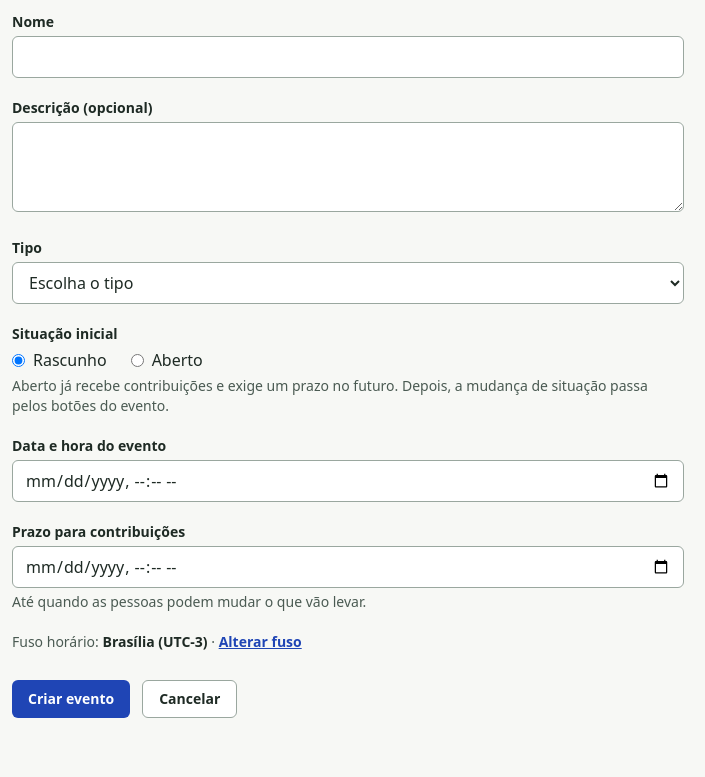
Scenario: EventFormPage: creating › marks the field the API rejects and stays on the form
Type "Almoço de fim de ano" into the field labelled "Nome". click: (348, 57)
box: [12, 36, 684, 78]
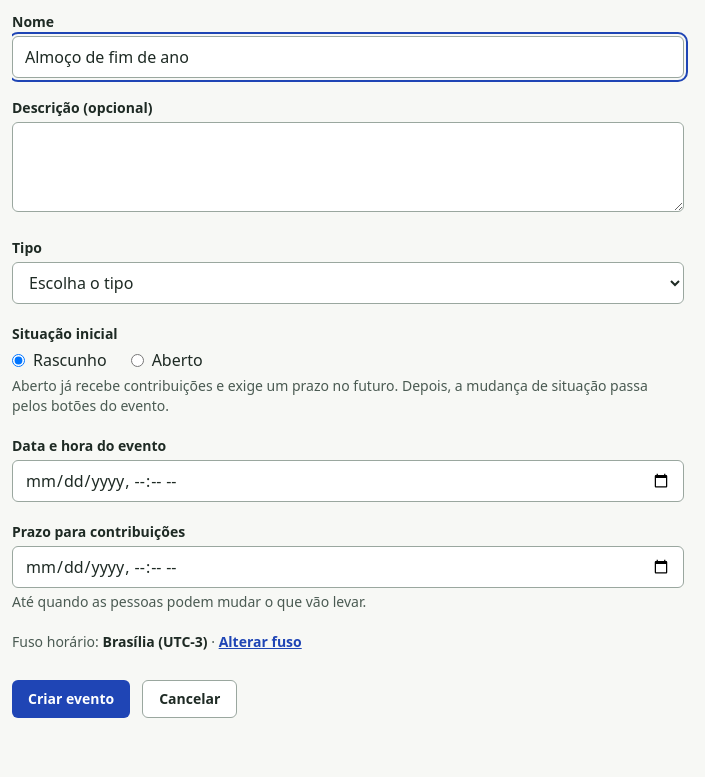
Select "Almoço" in the dropdown labelled "Tipo". click: (348, 283)
box: [12, 262, 684, 304]
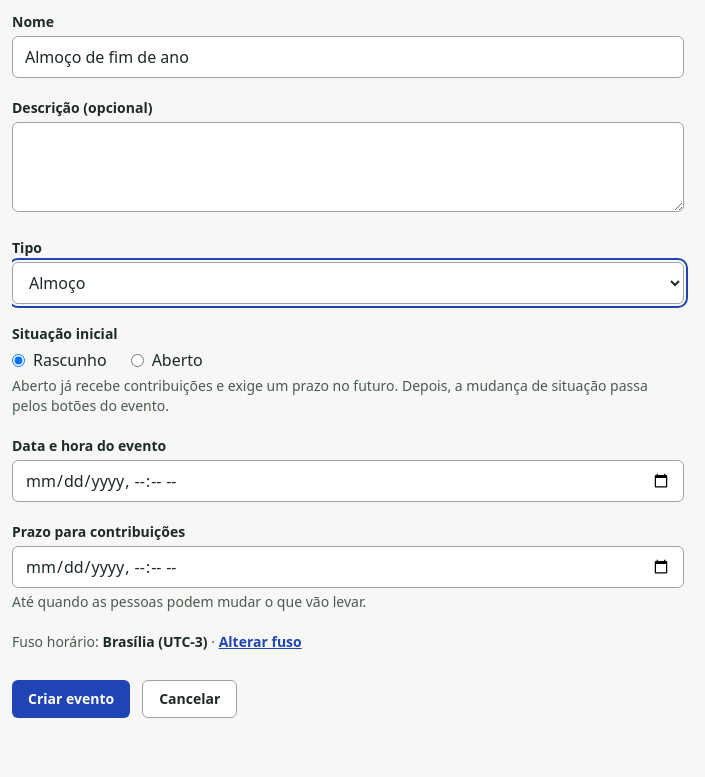
Type "2026-12-18T12:00" into the field labelled "Data e hora do evento". click: (348, 481)
box: [12, 460, 684, 502]
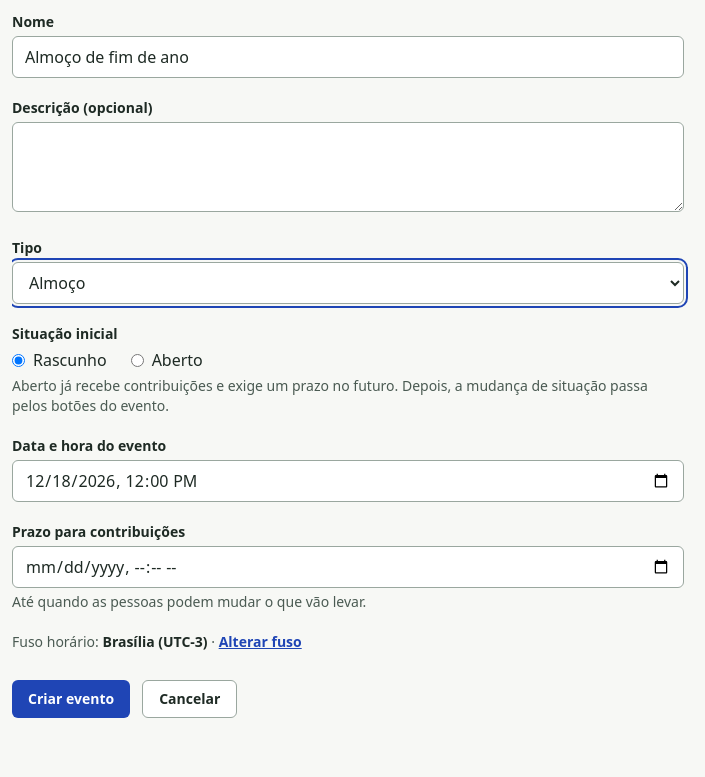
Type "2026-12-13T18:00" into the field labelled "Prazo para contribuições". click: (348, 567)
box: [12, 546, 684, 588]
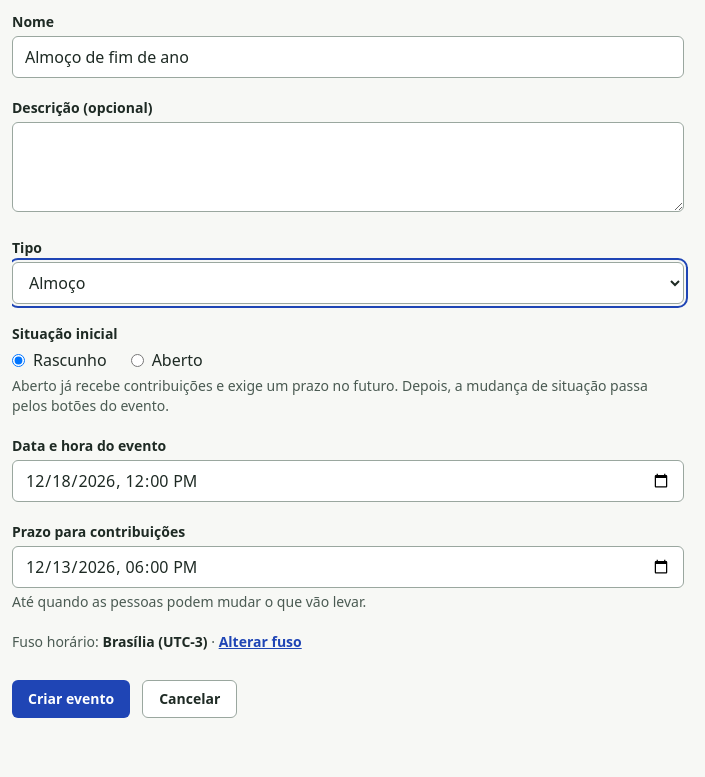
Click the button "Criar evento". click: (71, 699)
box: [12, 680, 130, 718]
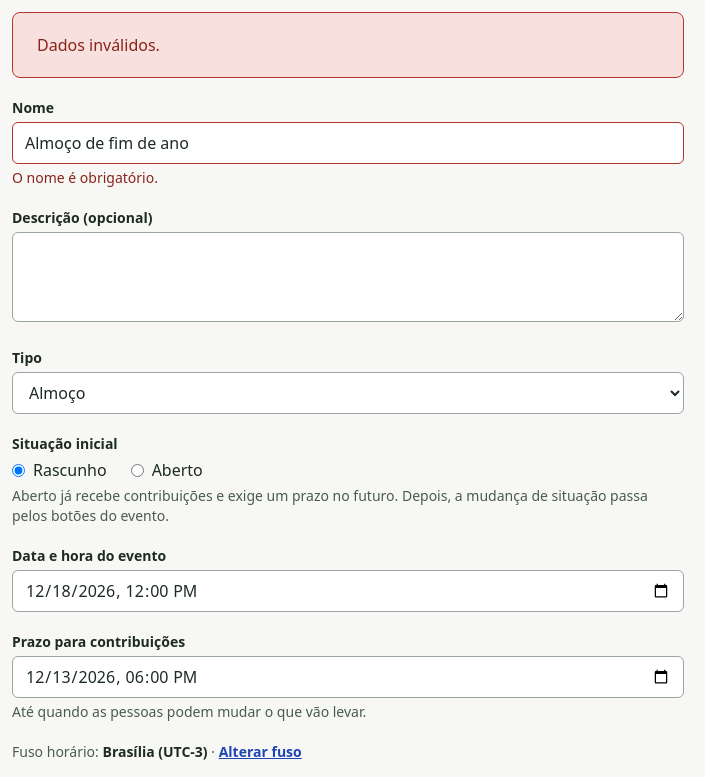
Result: the text "O nome é obrigatório." is shown at [12, 168, 158, 187]
